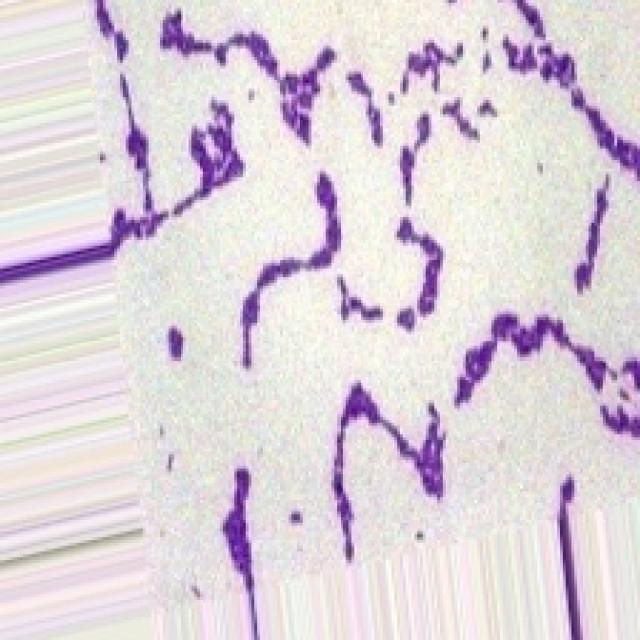Rod_bacteria: (77, 0, 637, 637)
